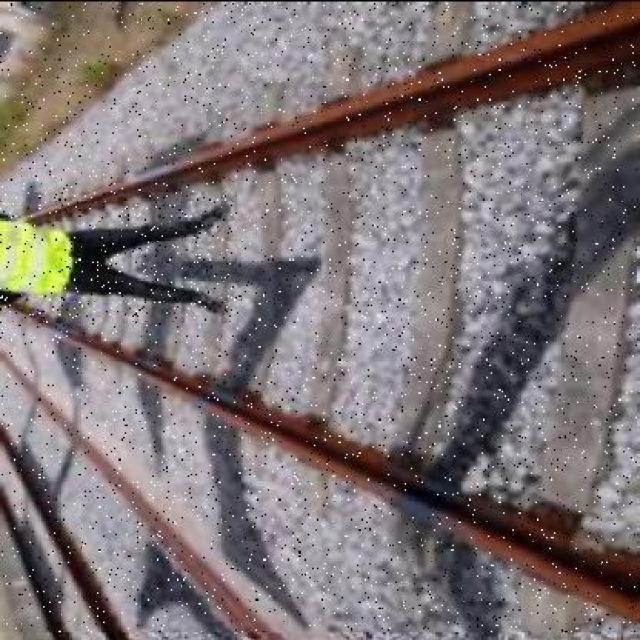rail: (2, 3, 638, 631)
